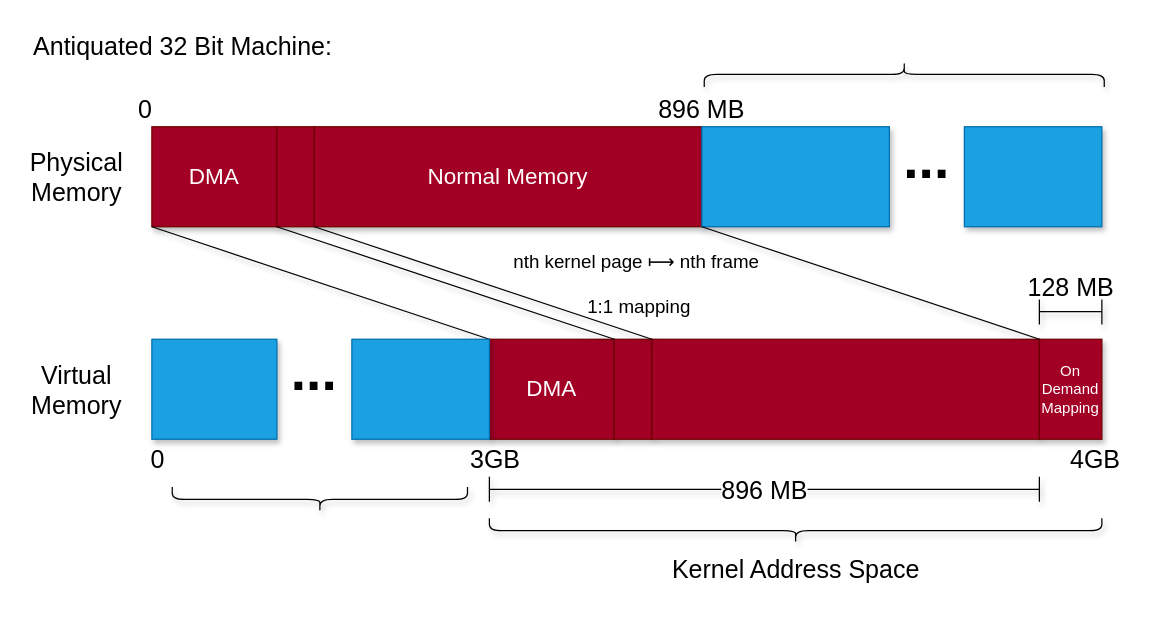
The diagram is 1156 pixels wide and 618 high, and some of its shapes have lost their labels. Here are the shapes that lost their labels. From the top down, the centre of each, then its label:
At point 904,75: "High Memory, contains user processes".
At point 320,500: "User Process Address Space".
